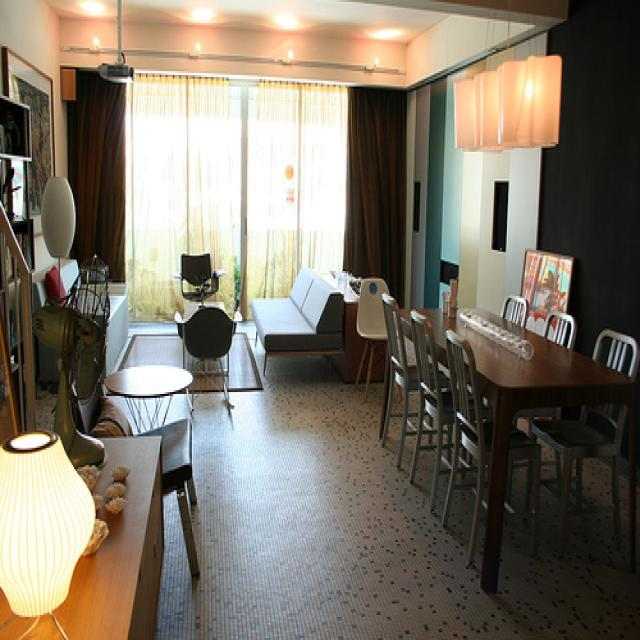chair: (69, 362, 201, 591), (533, 330, 639, 557), (446, 326, 540, 570), (407, 311, 486, 514), (507, 311, 577, 516), (380, 289, 454, 472), (353, 276, 407, 405), (174, 309, 236, 416), (174, 251, 224, 301), (499, 291, 531, 330)
diningtable: (382, 299, 640, 599)
sofa: (33, 257, 130, 391), (247, 266, 345, 382)
